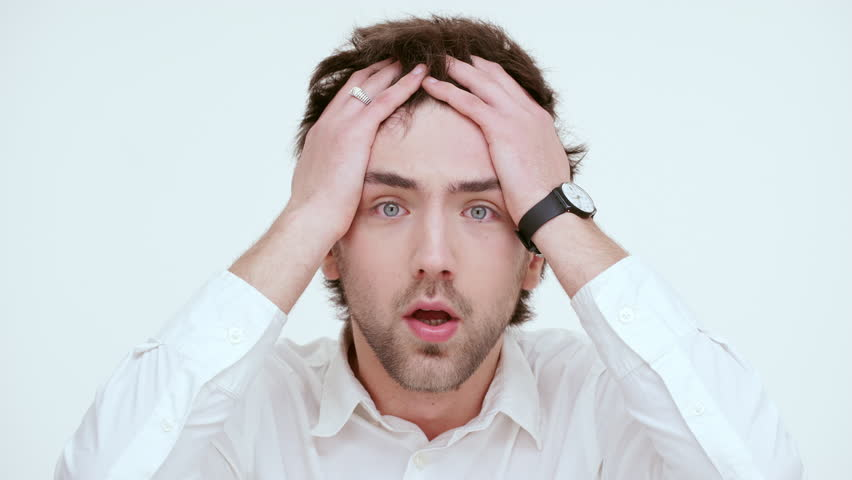confused: (348, 161, 534, 398)
